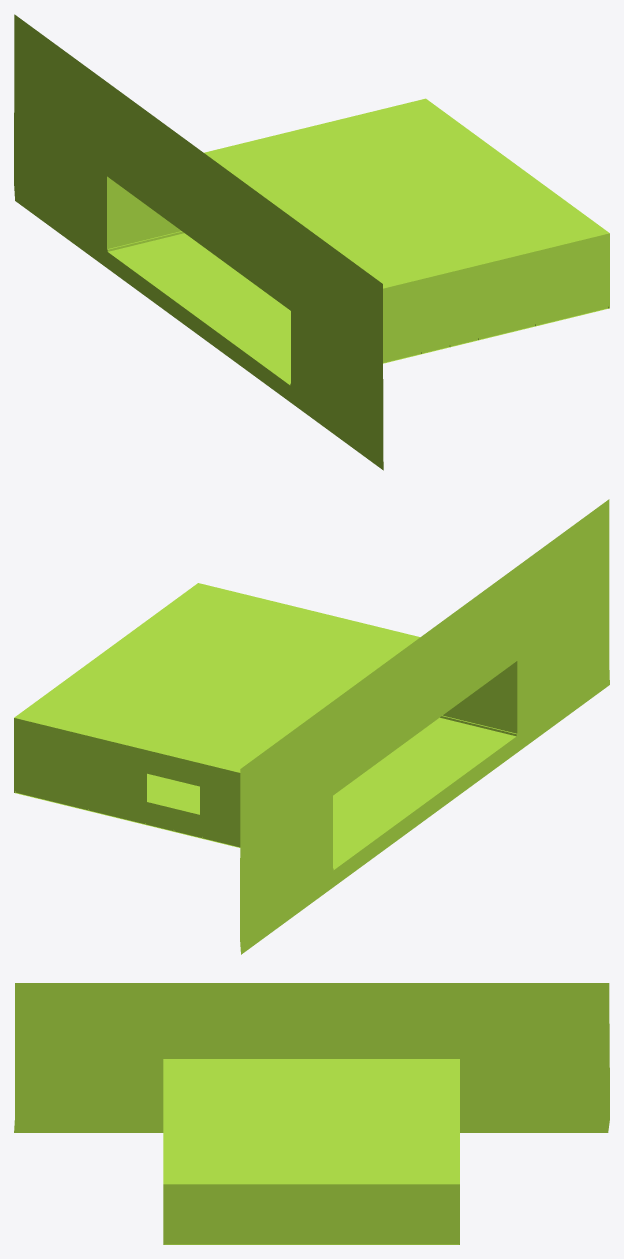
Rendered from Room 1.FBX.
3 views of the same model, one above another, from view 1: azimuth 30°, elevation 25°; view 2: azimuth 150°, elevation 25°; view 3: azimuth 270°, elevation 25° (orthographic). The views are drawn at different scales.
Parts seen in each view (by area): view 1: level 006; view 2: level 006; view 3: level 006.
Boxes of the visible parts, x1=… form: level 006: x1=14, y1=14, x2=609, y2=470; level 006: x1=14, y1=499, x2=609, y2=954; level 006: x1=14, y1=983, x2=609, y2=1244.
Bounding box in the file's own units: 11.08 × 6.3 × 22.25.
